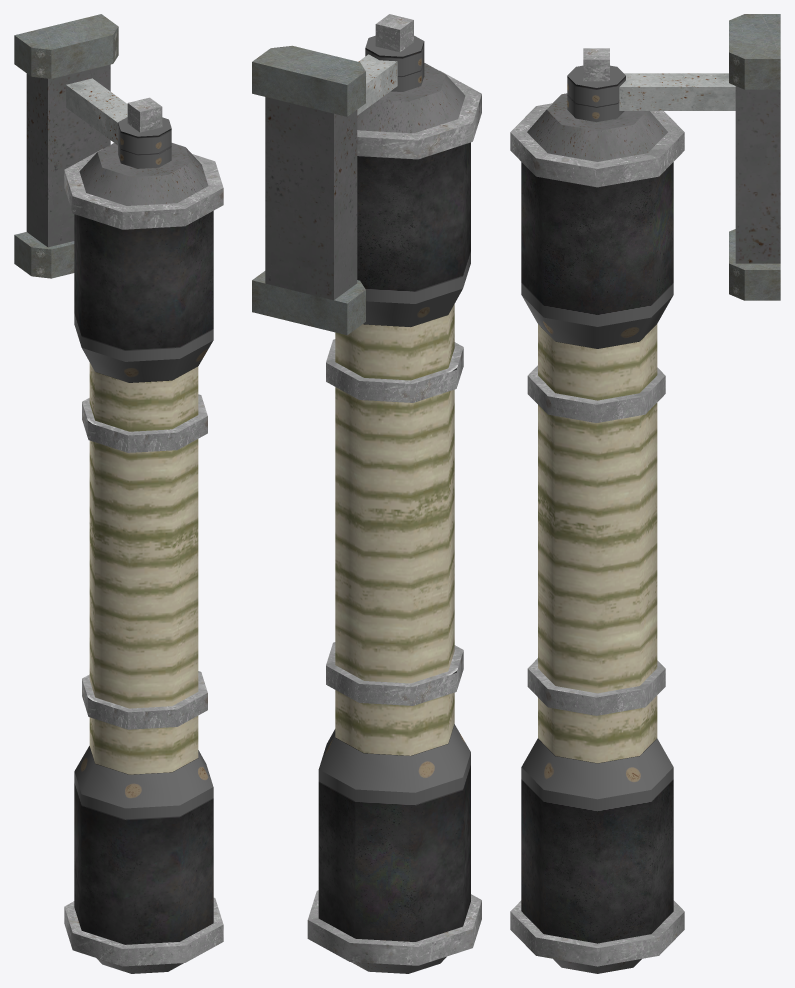
The model's file is Ob_Lamp_RC.fbx.
The picture shows the model from 3 angles, left to right: view 1: azimuth 30°, elevation 25°; view 2: azimuth 150°, elevation 25°; view 3: azimuth 270°, elevation 25°; orthographic projection. The views are drawn at different scales.
Parts seen in each view (by area): view 1: Ob_Lamp_RC; view 2: Ob_Lamp_RC; view 3: Ob_Lamp_RC.
Part boxes in pixels (x1=…): Ob_Lamp_RC: x1=14, y1=14, x2=223, y2=973; Ob_Lamp_RC: x1=252, y1=14, x2=481, y2=973; Ob_Lamp_RC: x1=510, y1=14, x2=780, y2=973.
Bounding box in the file's own units: 110 × 641 × 171.
